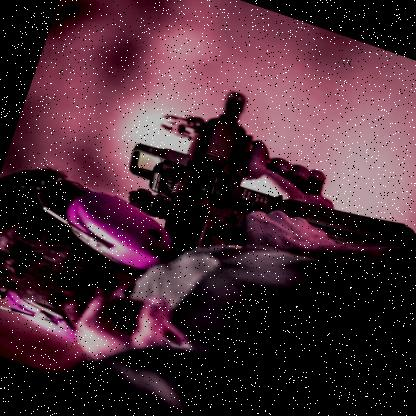rifle: (106, 64, 416, 344)
